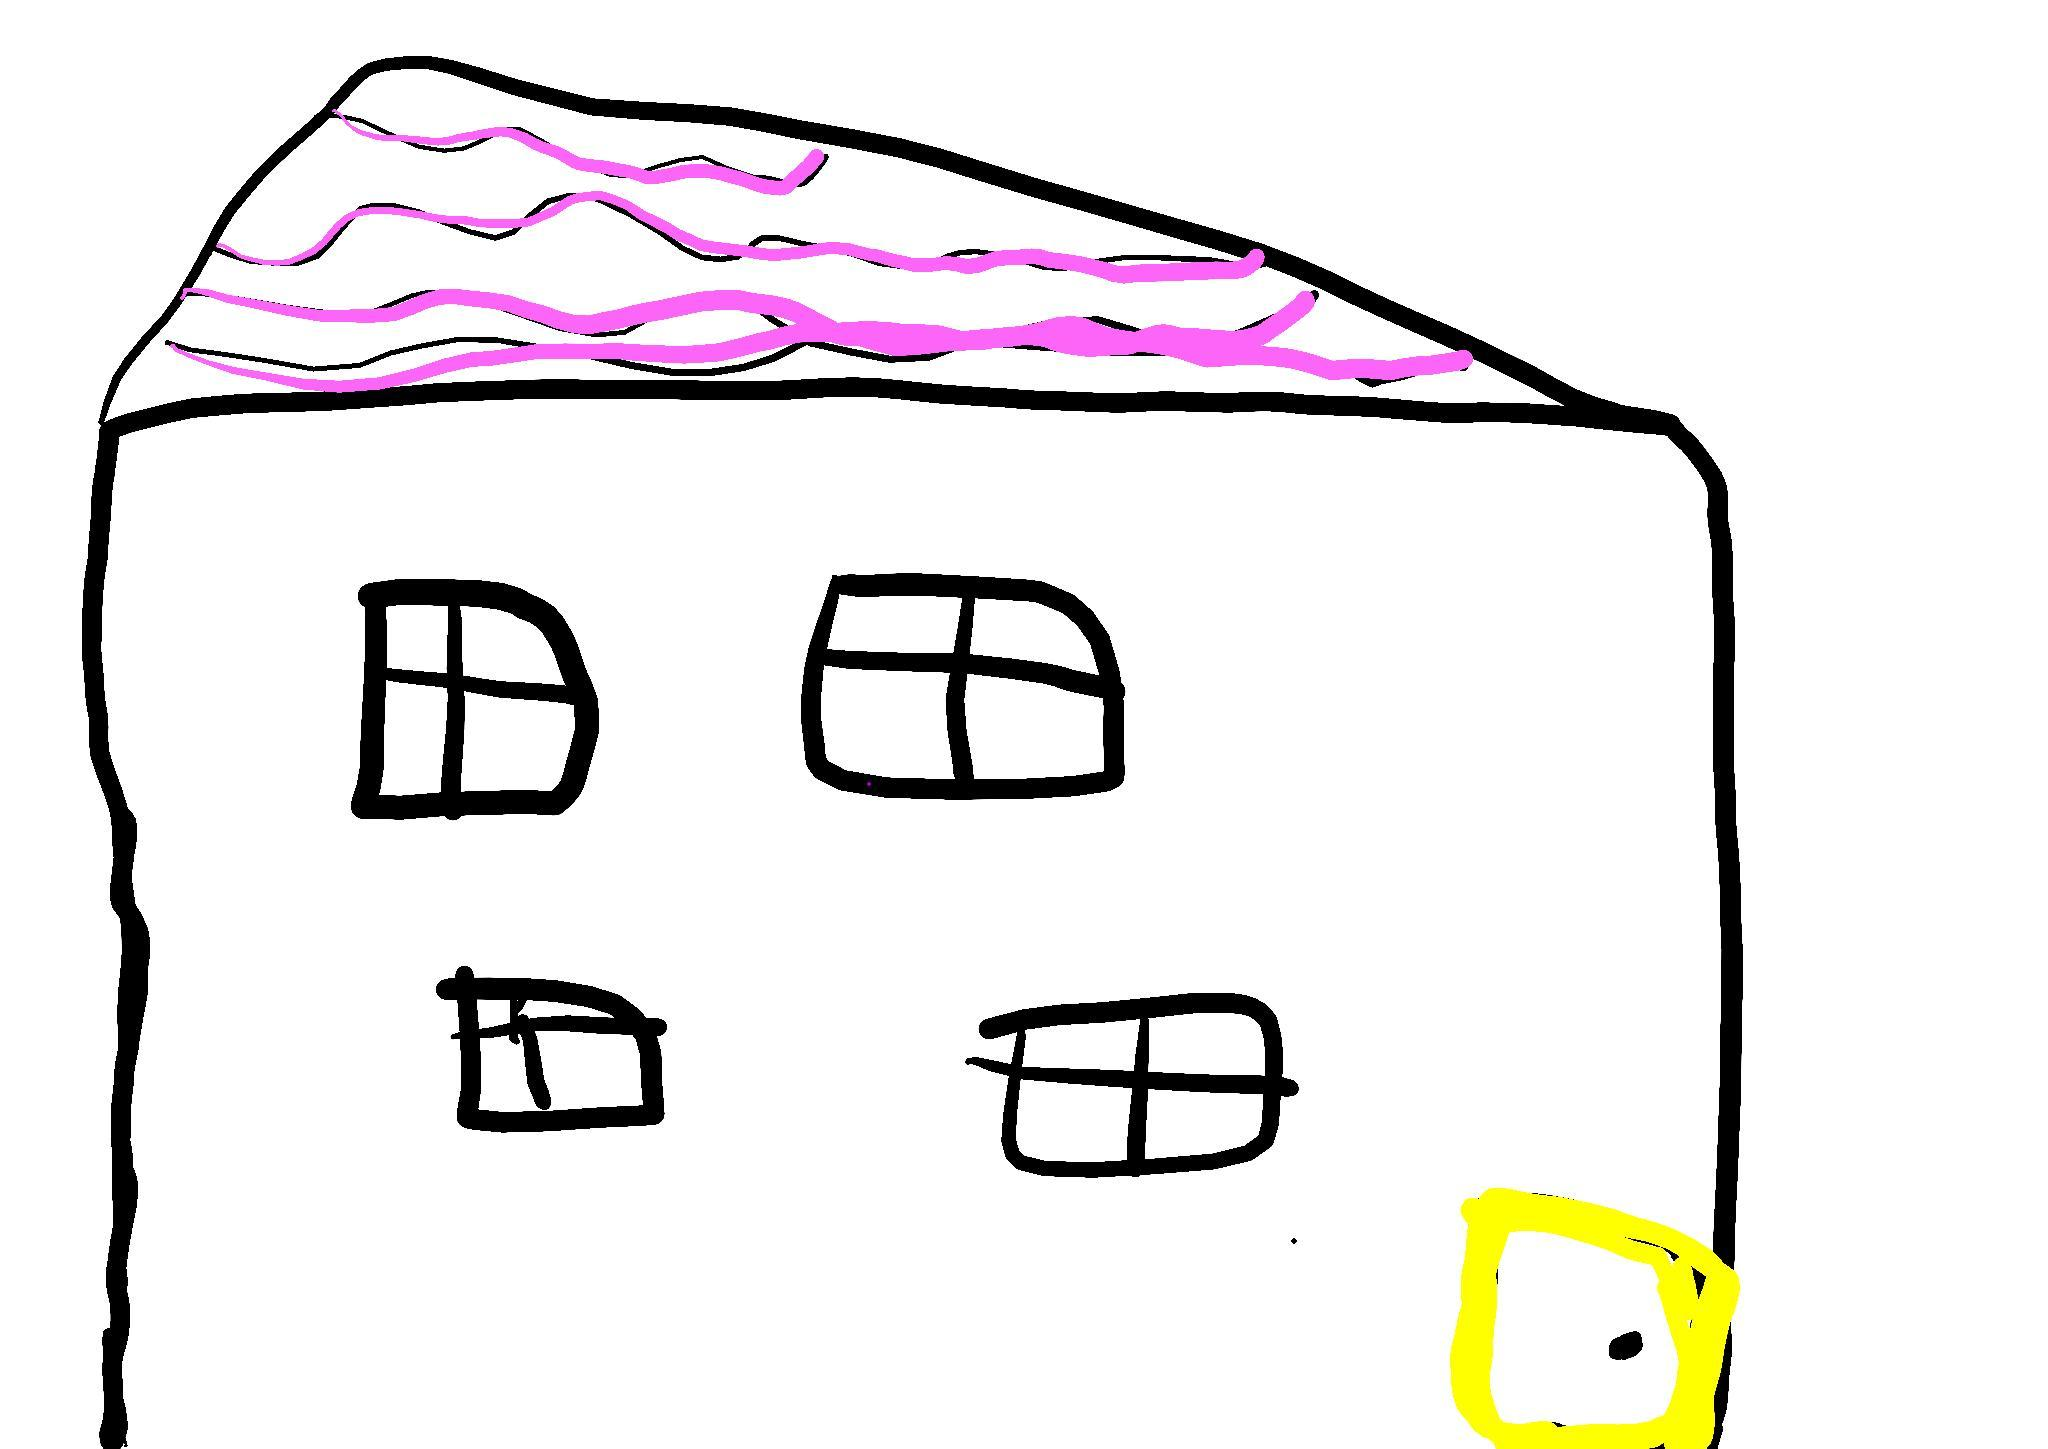door: (1454, 1190, 1744, 1449)
house: (82, 53, 1745, 1449)
roof: (97, 53, 1676, 433)
wall: (103, 398, 1720, 1447)
window: (803, 576, 1124, 797), (968, 994, 1300, 1178), (350, 579, 597, 819), (434, 968, 666, 1134)
